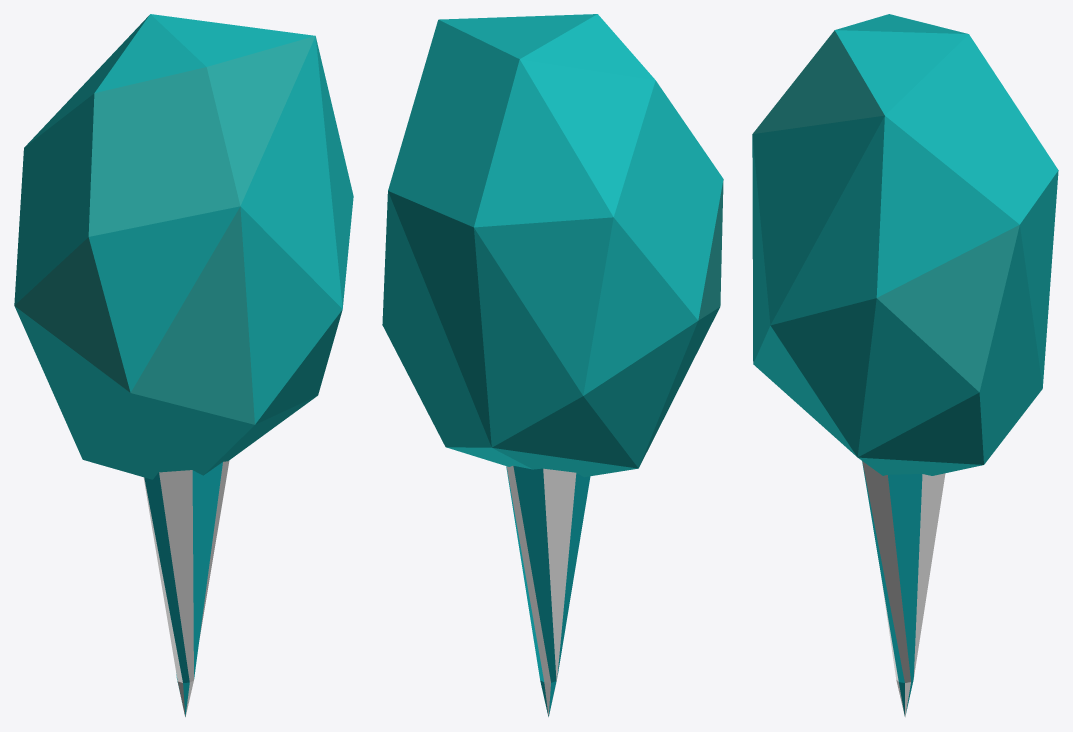
The model's file is Food_CottonCandy03.fbx.
3 views of the same model, side by side, from view 1: azimuth 30°, elevation 25°; view 2: azimuth 150°, elevation 25°; view 3: azimuth 270°, elevation 25° (orthographic).
Parts seen in each view (by area): view 1: Cone.002; view 2: Cone.002; view 3: Cone.002.
Boxes of the visible parts, <box> form: Cone.002: <box>14,14,353,717</box>; Cone.002: <box>382,14,723,716</box>; Cone.002: <box>752,14,1058,717</box>.
Size of the model in its own units: 29.52 by 61.15 by 24.86.
